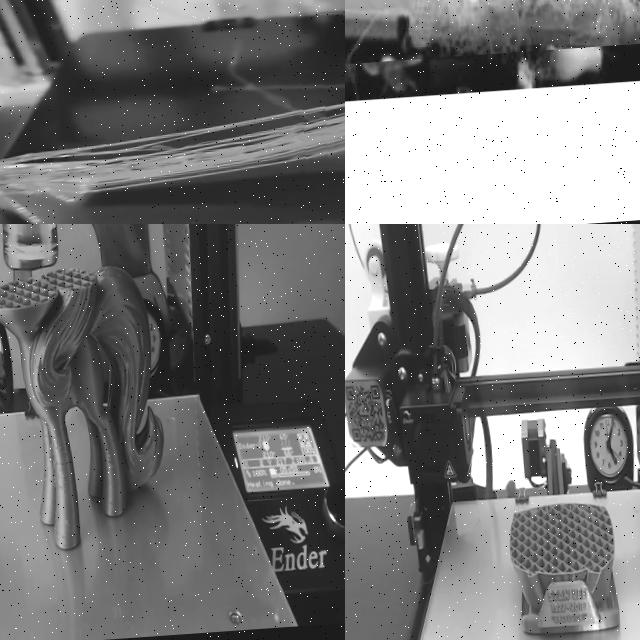spaghetti: (285, 0, 345, 224)
